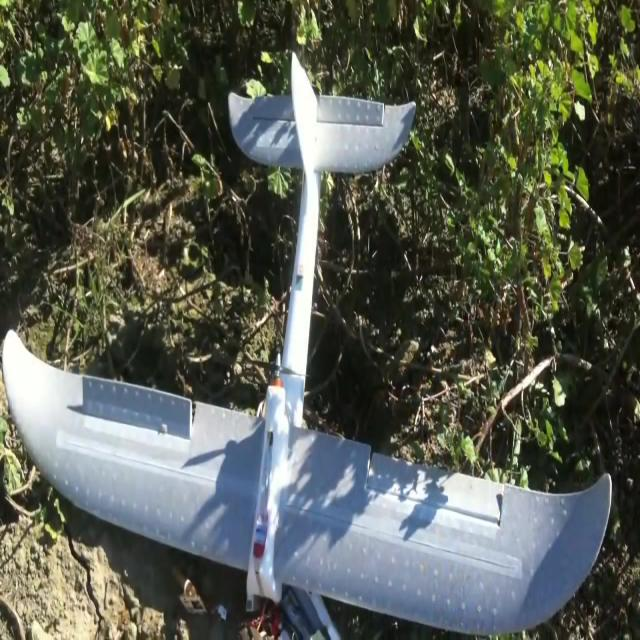iha: (0, 49, 611, 640)
